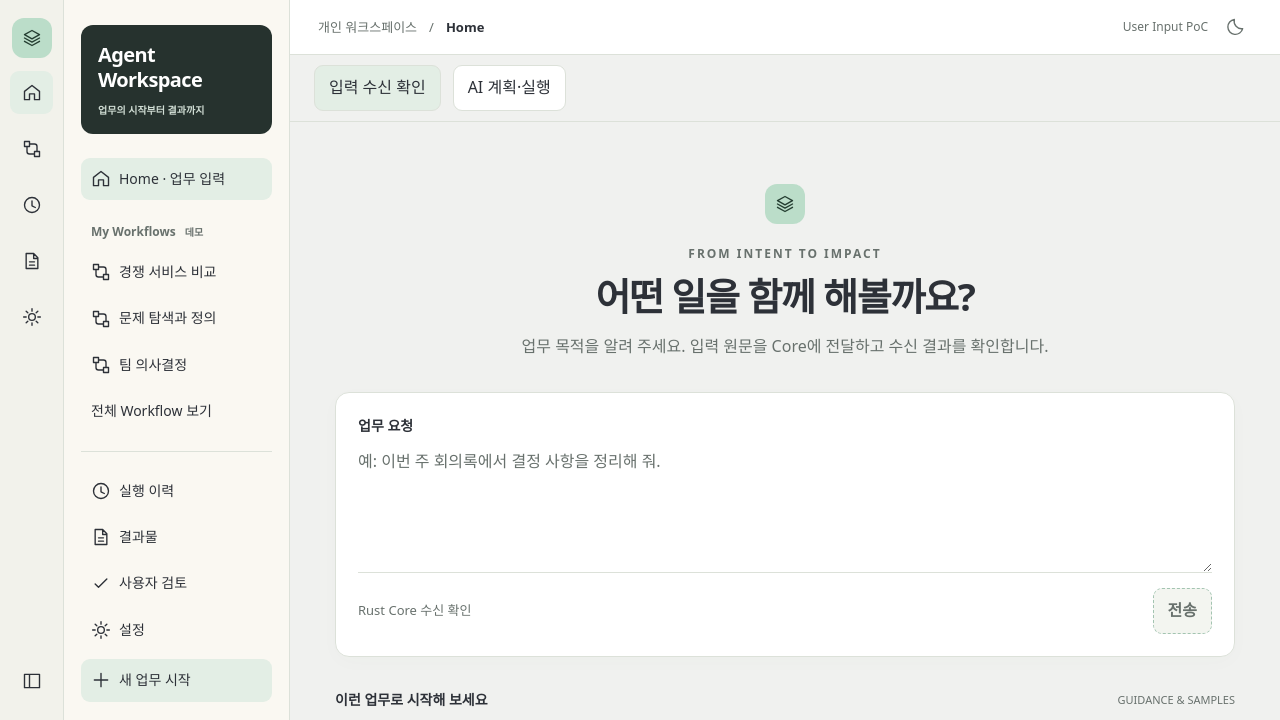
Test: UI-08 화면 왕복 후 기존 대화 유지
The image size is (1280, 720).
Type "A" into the text box labelled "업무 요청" at (785, 505), box [358,437,1212,572]
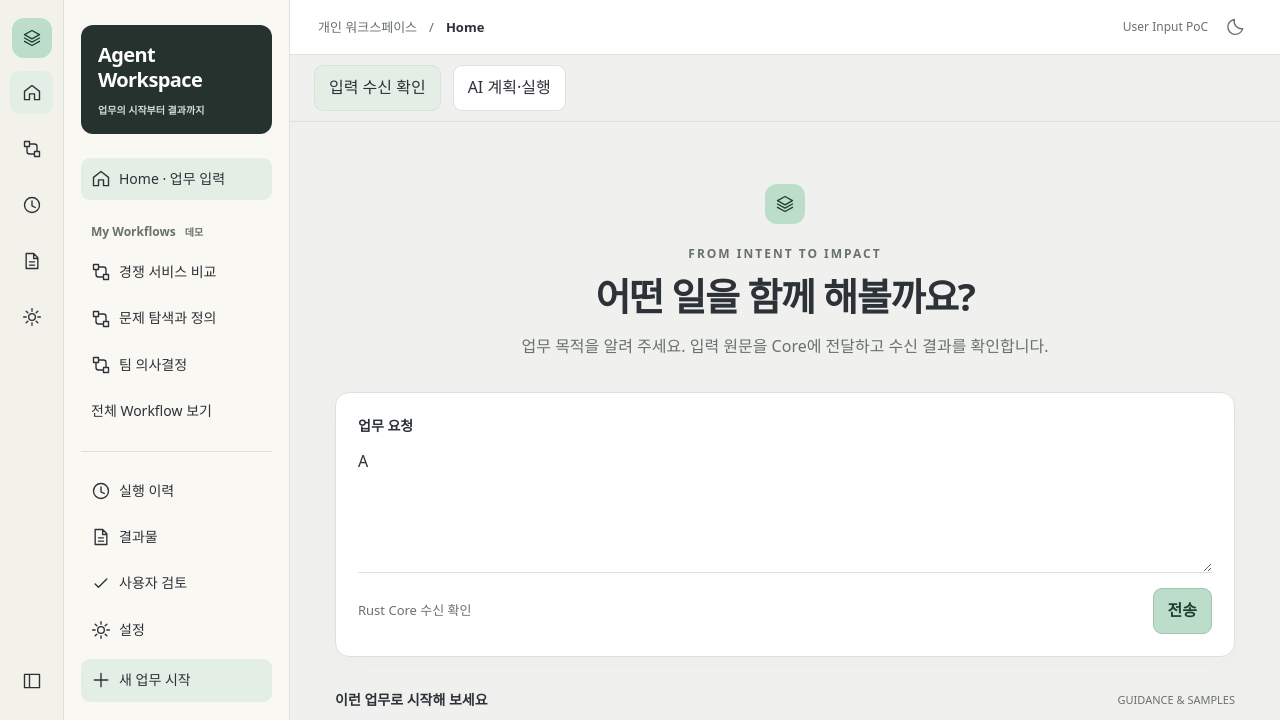
Click the button "전송" at (1182, 611), box [1152,588,1212,634]
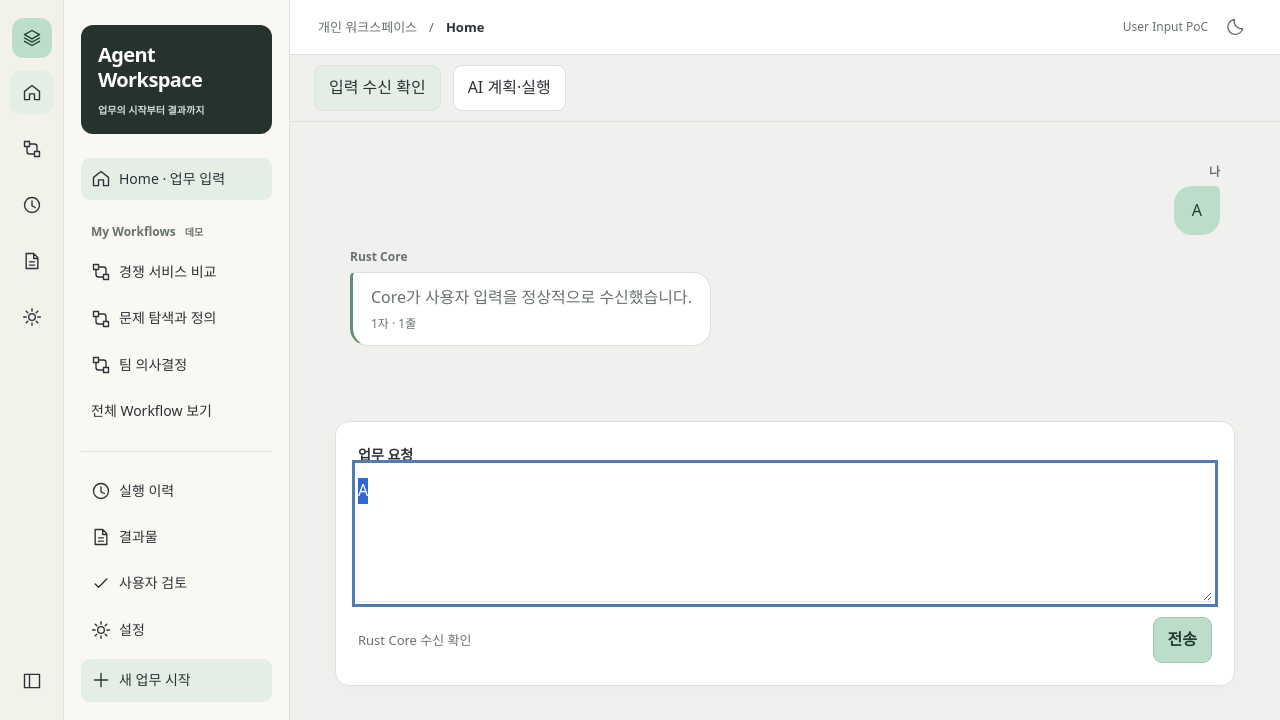
Click the button named "결과물" at (32, 260), box [10,239,53,282]
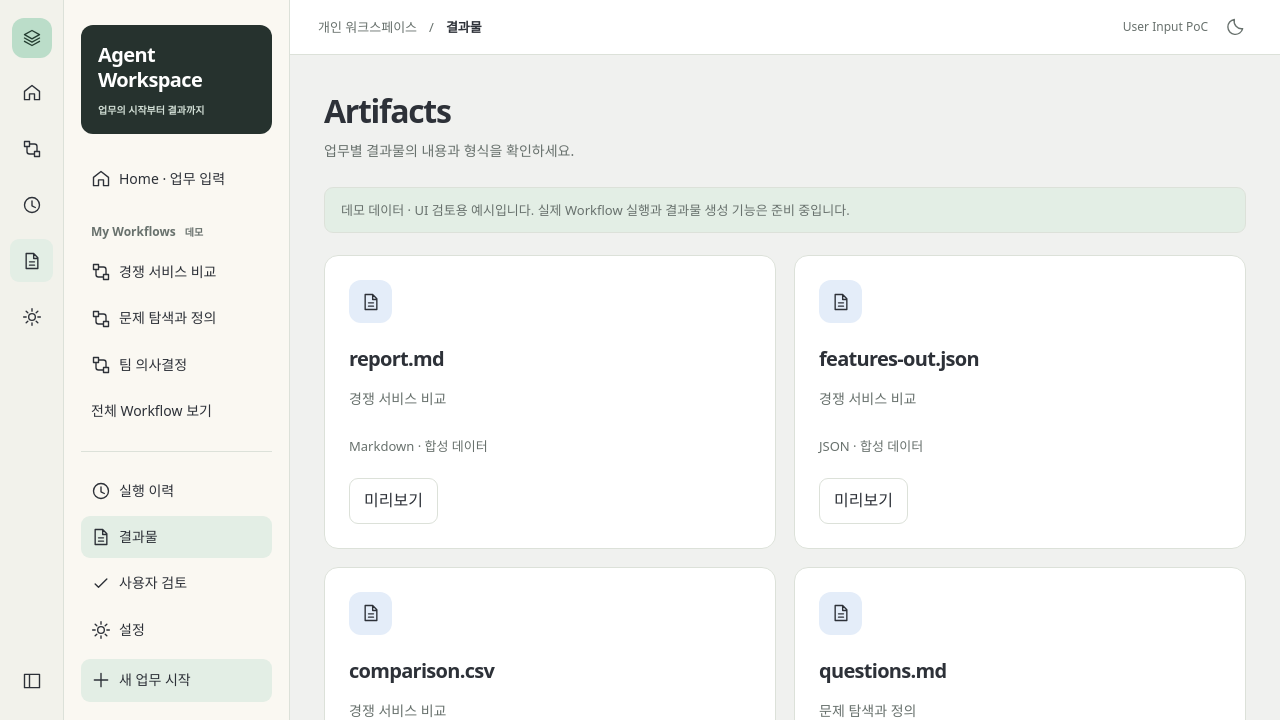
Click the button named "홈" at (32, 92), box [10,71,53,114]
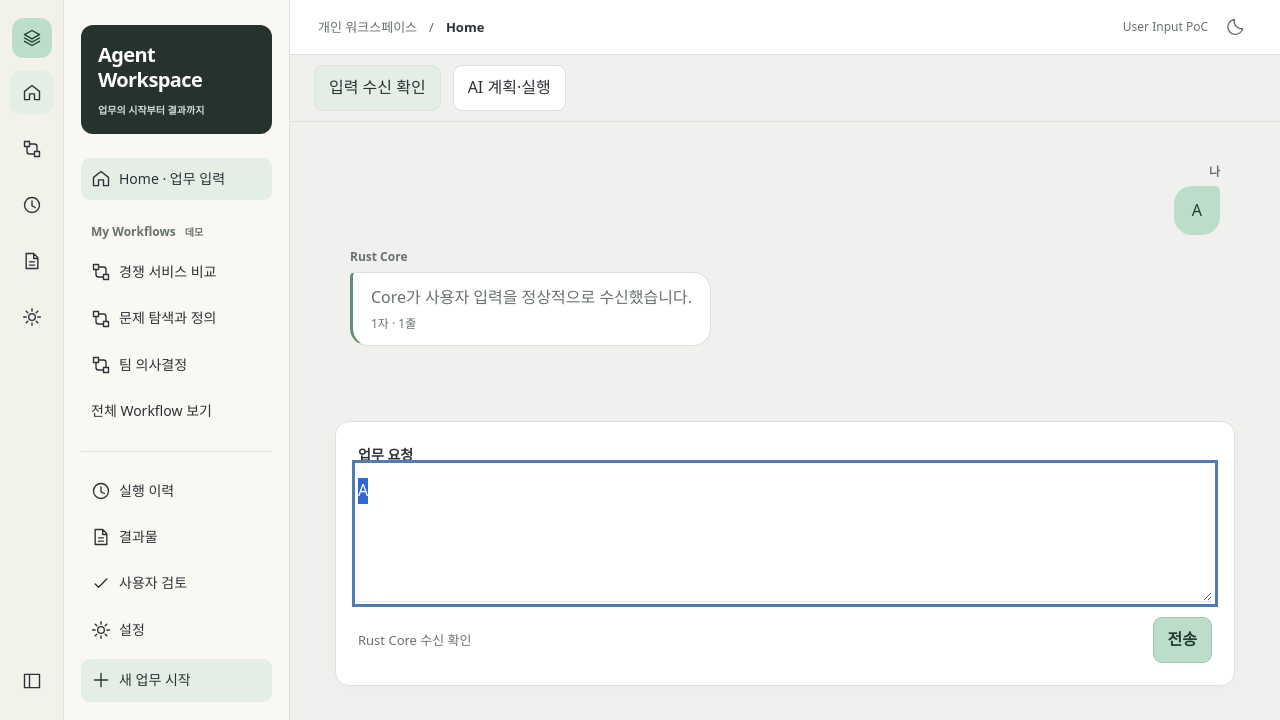
Now the message shows "정상적으로 수신", box [371,286,692,308]
